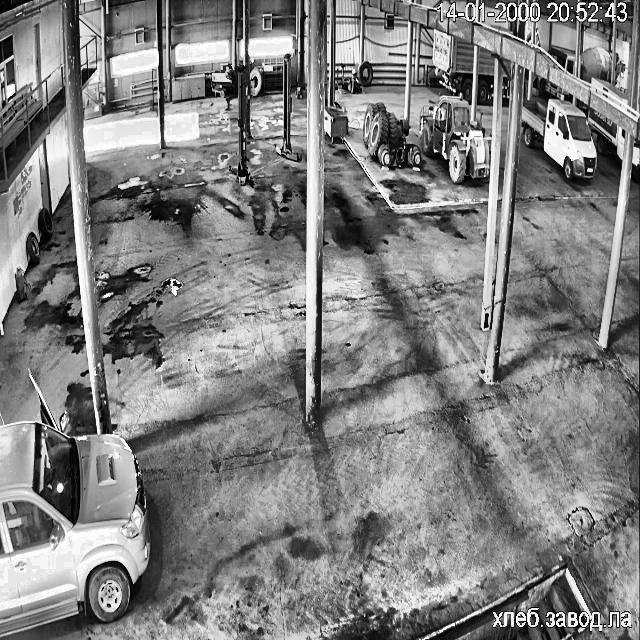car: (0, 394, 149, 636)
car lift: (229, 66, 252, 185), (275, 52, 300, 161)
fire extinguisher: (16, 268, 25, 300)
tractor: (420, 96, 489, 181), (362, 102, 420, 165)
truck: (522, 100, 596, 180), (432, 28, 472, 100), (588, 108, 624, 156), (580, 46, 611, 80), (476, 48, 494, 102), (592, 78, 628, 102), (537, 77, 572, 99), (548, 45, 574, 73), (632, 140, 640, 177), (498, 76, 508, 97), (616, 59, 620, 76), (505, 60, 510, 69)
